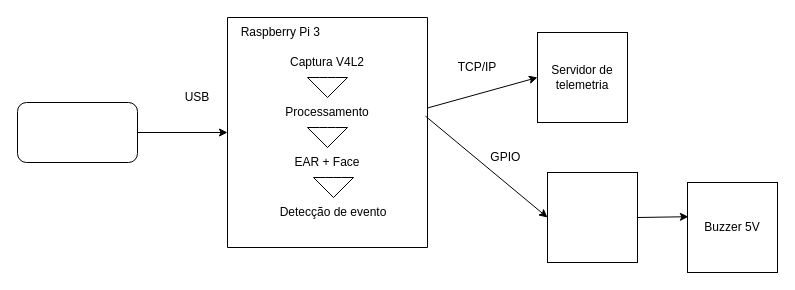
Some shapes in this 795 by 290 pixel diagram are drawn without their labels. The shapes that lost their labels are listed below. From the top down, each one's centre as x and y in pixels, then its label:
point (77, 132): SmartCam S600 640×480 / 30 FPS
point (592, 217): BC547+ 1kΩ
